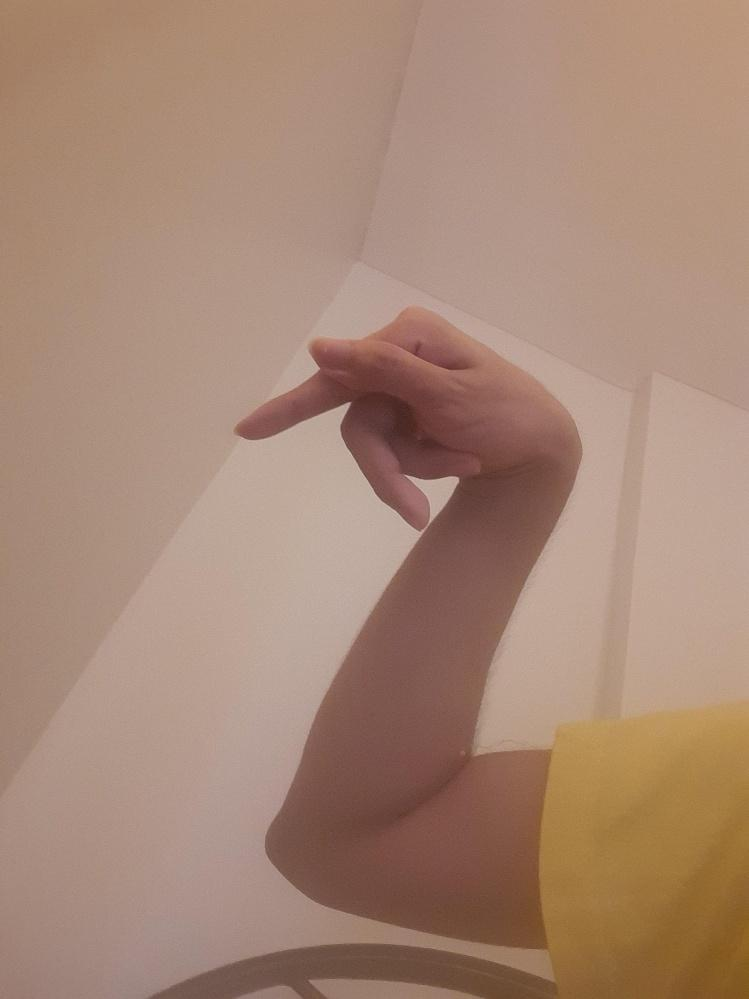p: (233, 308, 583, 532)
